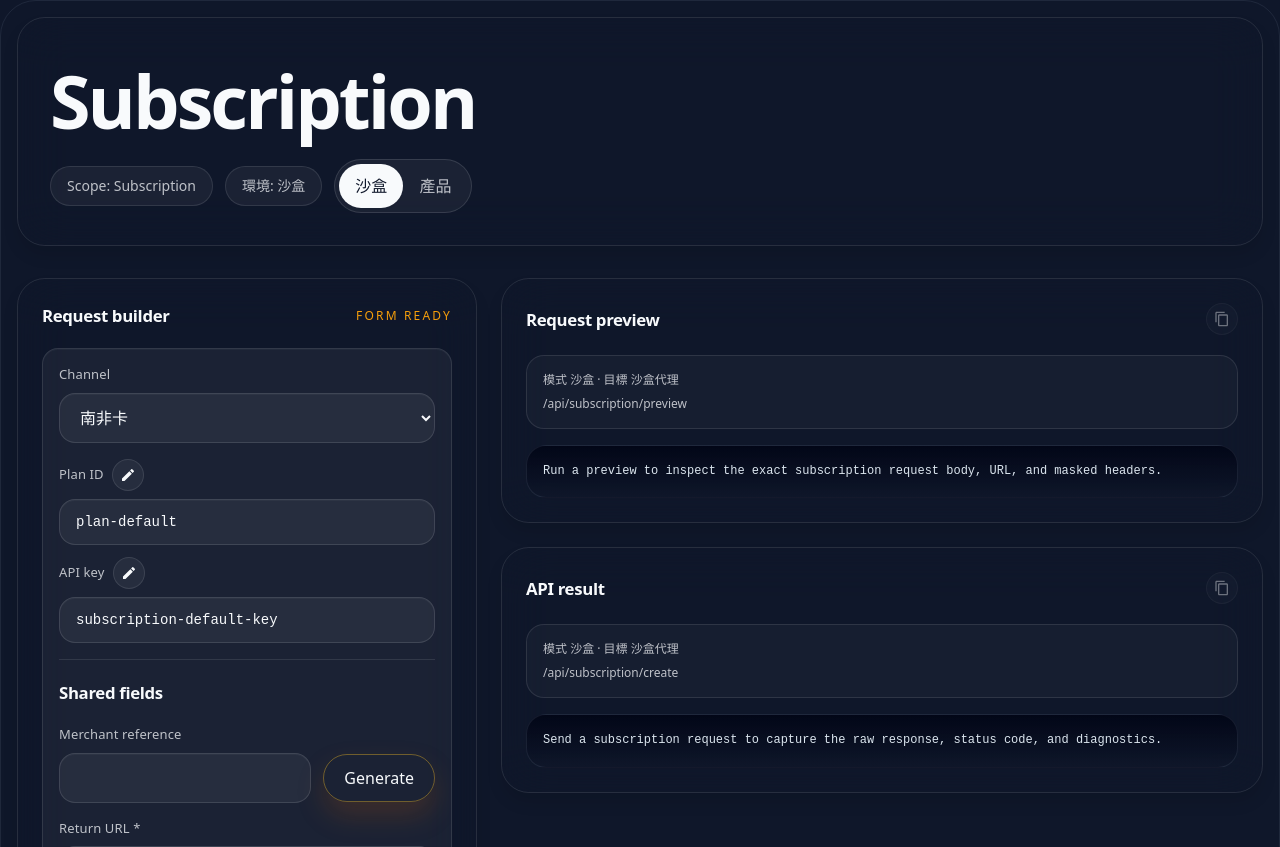
Test: SubscriptionPage › renders an editable plan id field and updates merchant reference via generate
Expected: the heading "Subscription" is shown, [50,50,475,151]
Expected: the field labelled "Merchant reference" is shown, [59,752,311,802]
Click the button named "Edit Plan ID": click(128, 475) [112,459,144,491]
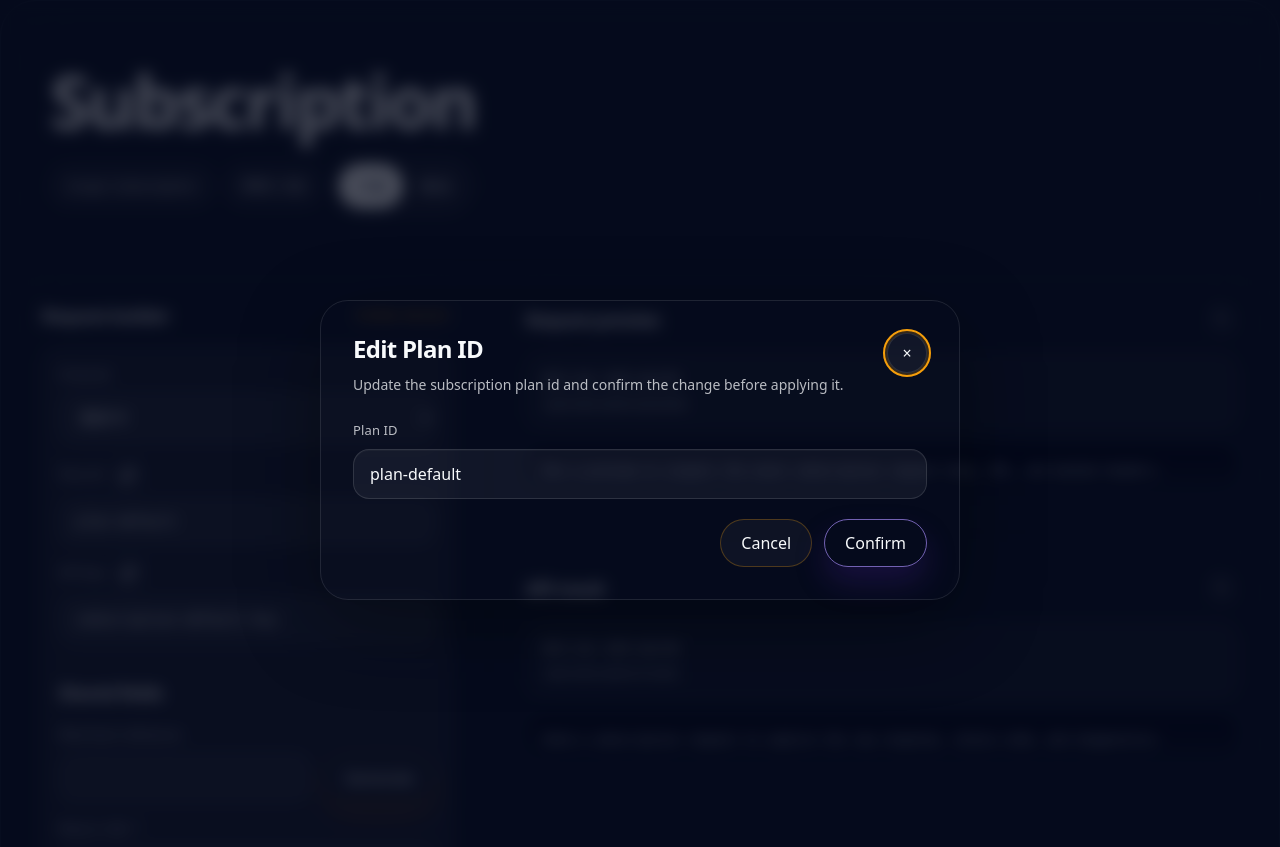
Result: the dialog is shown at [320,300,960,600]
Replace the text in the field labelled "Plan ID" with "plan-draft-override": (640, 474) [353,449,927,499]
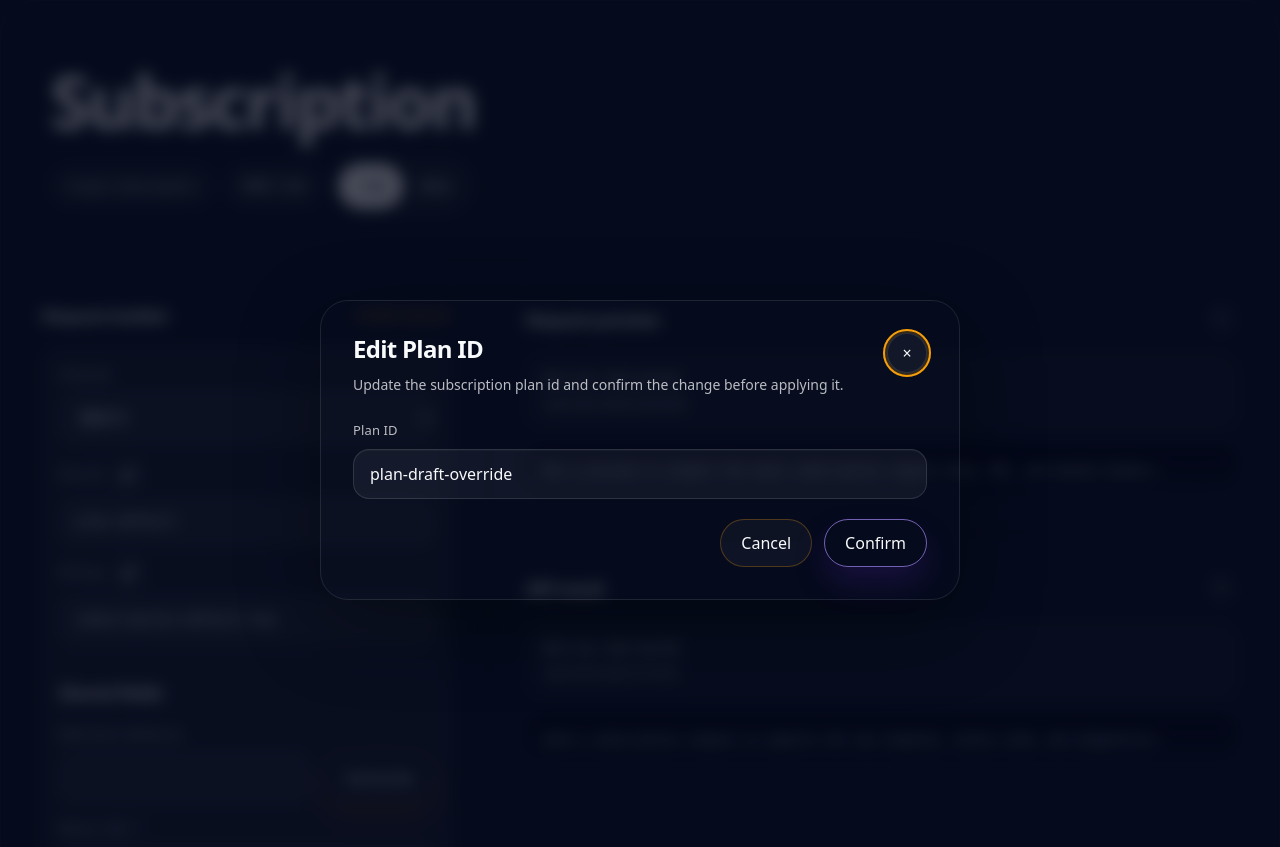
Click the button "Confirm": click(876, 543) [824,519,927,567]
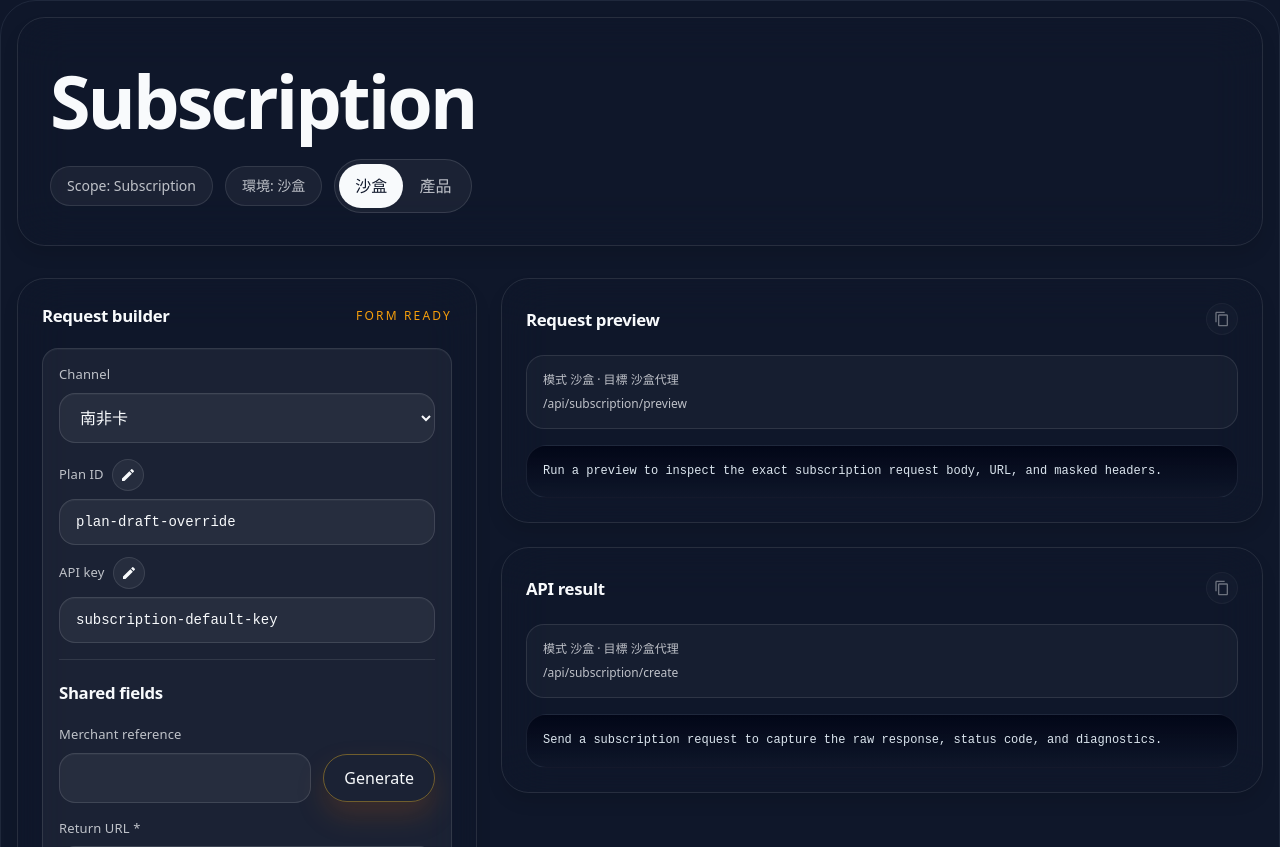
Result: the text "plan-draft-override" is shown at [76,514,236,530]
Click the button "Generate": click(379, 778) [323,754,435,802]
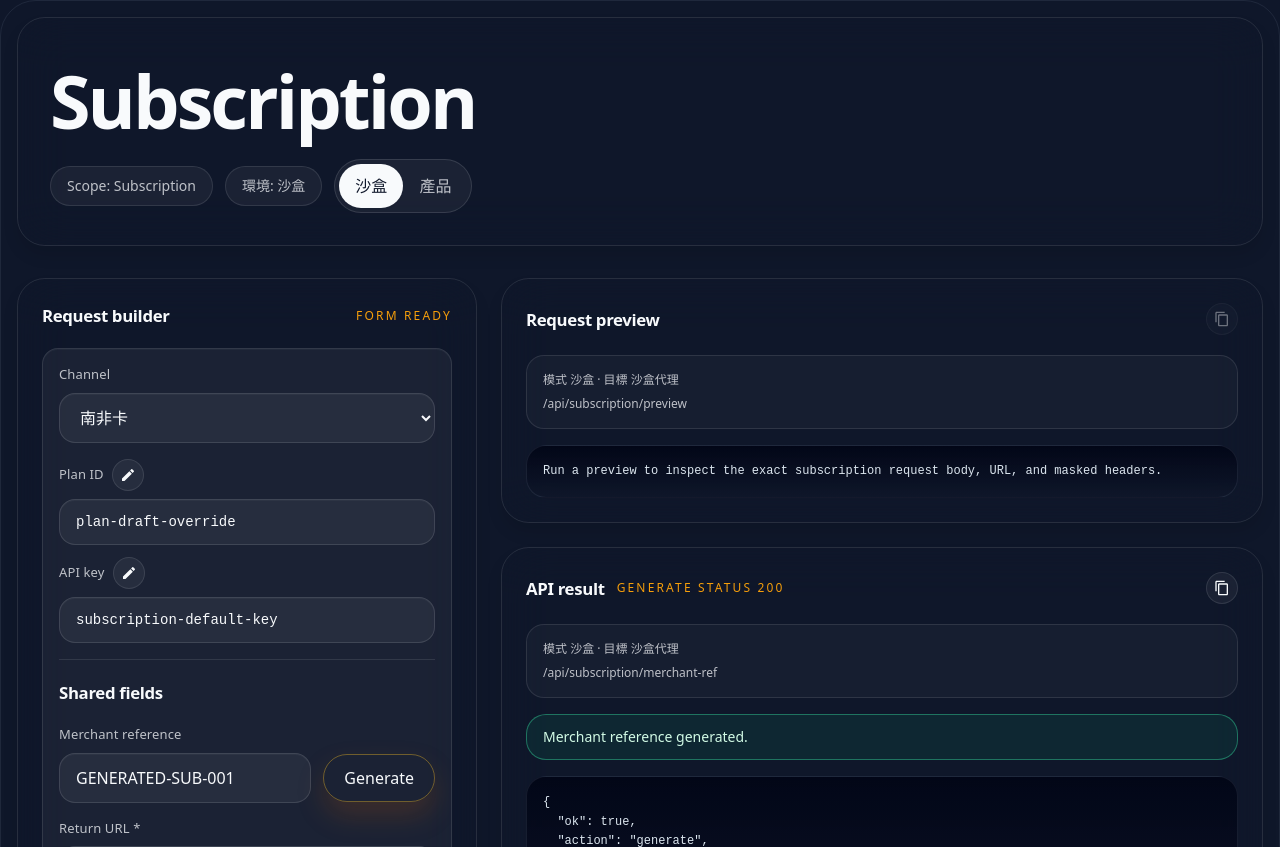
Result: the field labelled "Merchant reference" holds "GENERATED-SUB-001" at [59,752,311,802]
Result: the text "Merchant reference generated." is shown at [543,727,748,746]
